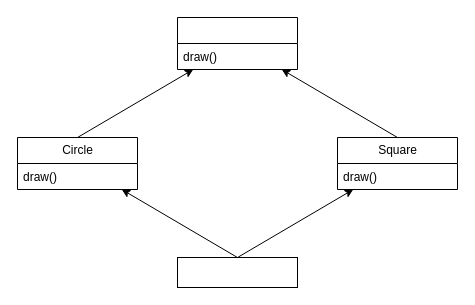
The diagram is 475 pixels wide and 305 high, and some of its shapes have lost their labels. The box of each missing label's shape, as (x1, y1, x2, y2) in pixels:
createShape(): (176, 256, 298, 288)
Shape: (176, 16, 298, 70)
